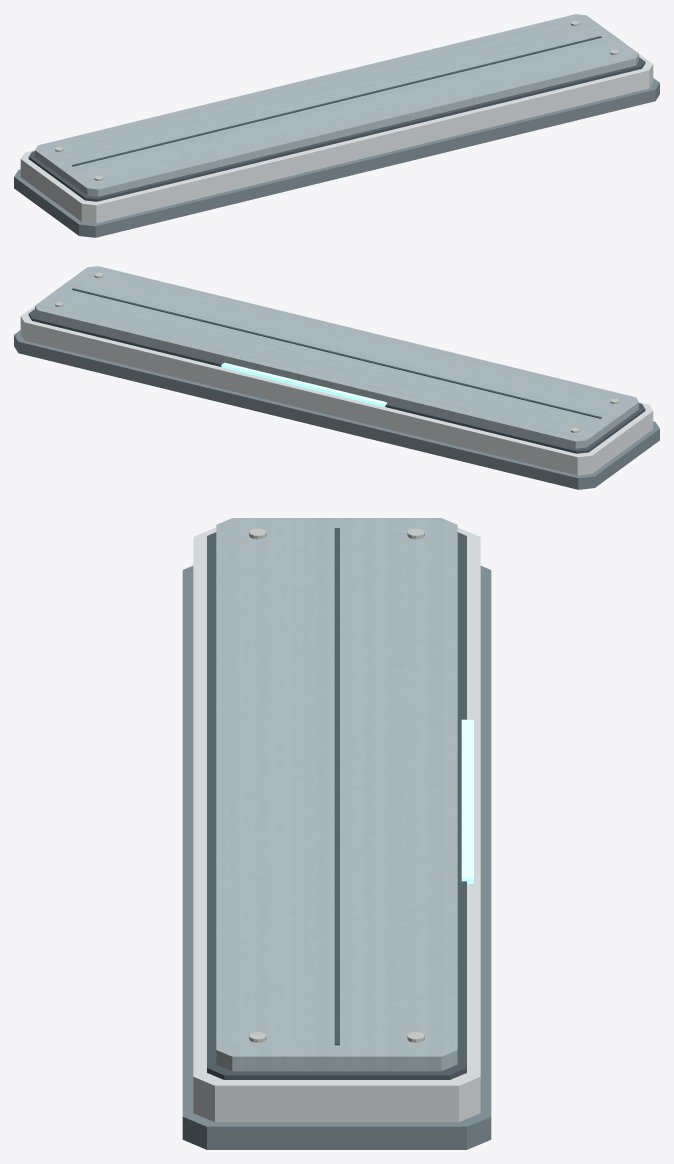
The model's file is m02-metal-edge-north.glb.
3 views of the same model, one above another, from view 1: azimuth 30°, elevation 25°; view 2: azimuth 150°, elevation 25°; view 3: azimuth 270°, elevation 25° (orthographic). The views are drawn at different scales.
Parts seen in each view (by area): view 1: edge-north/003, edge-north/001, edge-north/000, edge-north/002, edge-north/004; view 2: edge-north/003, edge-north/001, edge-north/000, edge-north/002, edge-north/004, edge-north/009; view 3: edge-north/003, edge-north/001, edge-north/000, edge-north/002, edge-north/004, edge-north/009.
Boxes of the visible parts, left/top/right/bottom form: edge-north/003: left=35, top=14, right=638, bottom=196; edge-north/001: left=20, top=54, right=653, bottom=223; edge-north/000: left=14, top=78, right=659, bottom=237; edge-north/002: left=28, top=57, right=645, bottom=201; edge-north/004: left=72, top=36, right=601, bottom=166; edge-north/003: left=35, top=266, right=638, bottom=448; edge-north/001: left=20, top=306, right=653, bottom=475; edge-north/000: left=14, top=330, right=659, bottom=489; edge-north/002: left=28, top=309, right=645, bottom=453; edge-north/004: left=72, top=288, right=601, bottom=418; edge-north/009: left=221, top=362, right=386, bottom=406; edge-north/003: left=216, top=518, right=457, bottom=1071; edge-north/001: left=193, top=528, right=480, bottom=1122; edge-north/000: left=182, top=566, right=491, bottom=1149; edge-north/002: left=207, top=532, right=466, bottom=1079; edge-north/004: left=334, top=528, right=339, bottom=1045; edge-north/009: left=461, top=719, right=473, bottom=883.
Size of the model in its own units: 1 by 0.0678 by 0.23.
6 materials, 1 textured.
